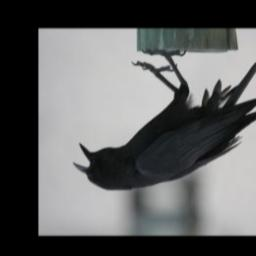Crow: (72, 47, 256, 192)
